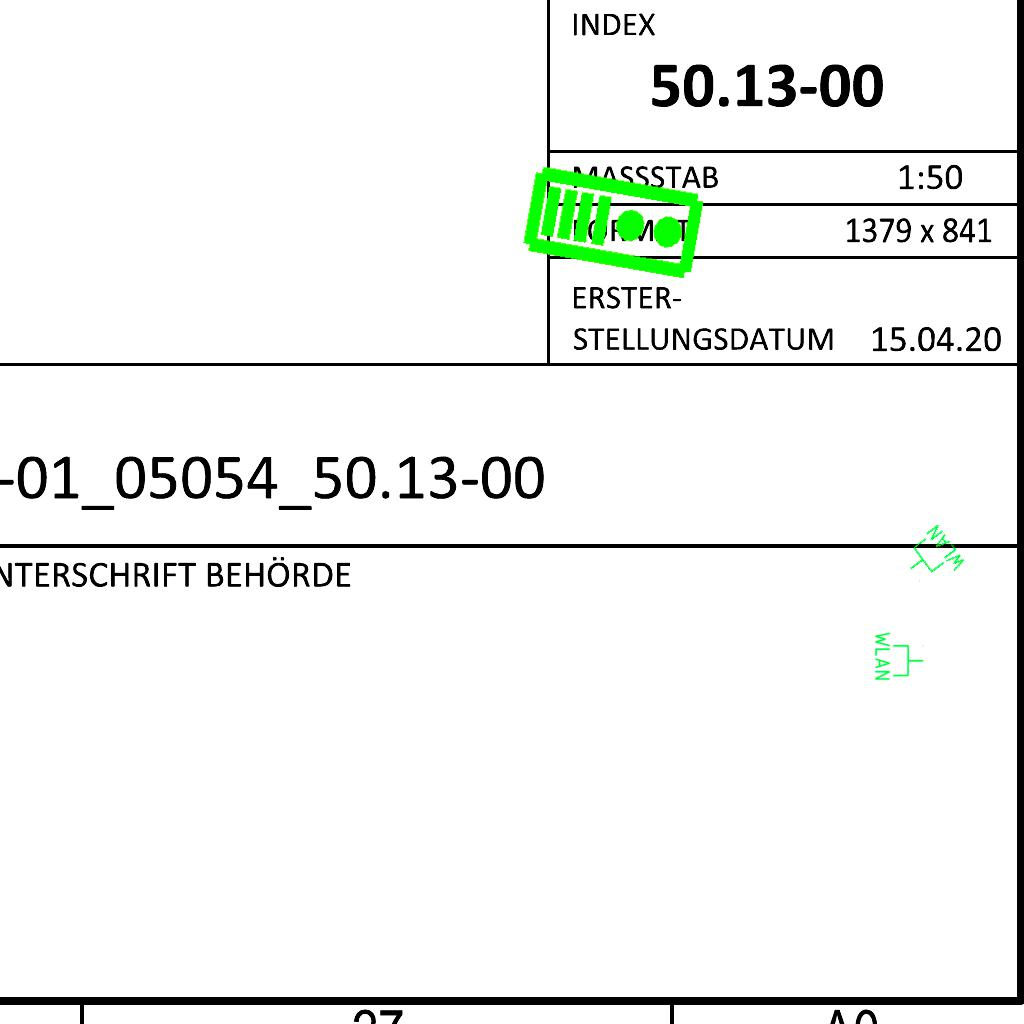Gegensprechanlage_mit_Video: (519, 158, 710, 284)
WLAN: (896, 521, 970, 595), (873, 630, 925, 682)
